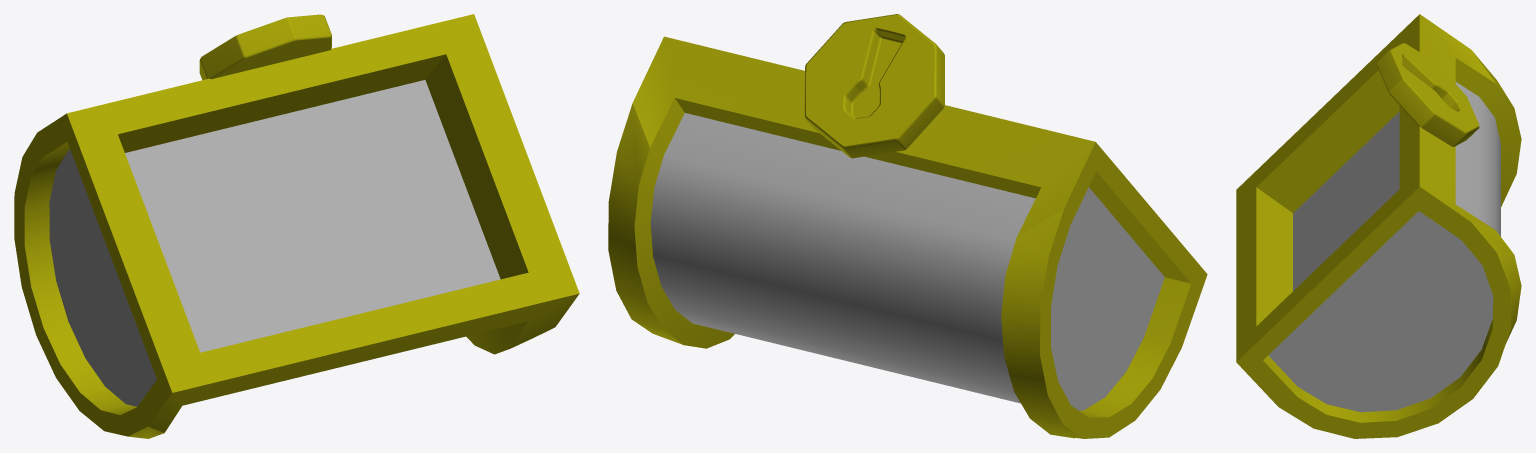
The model's file is Chest_Open4.fbx.
The picture shows the model from 3 angles, left to right: view 1: azimuth 30°, elevation 25°; view 2: azimuth 150°, elevation 25°; view 3: azimuth 270°, elevation 25°; orthographic projection. The views are drawn at different scales.
Parts seen in each view (by area): view 1: group48; view 2: group48; view 3: group48.
Boxes of the visible parts, x1=… form: group48: x1=14, y1=14, x2=579, y2=438; group48: x1=608, y1=14, x2=1207, y2=438; group48: x1=1236, y1=14, x2=1521, y2=438.
Size of the model in its own units: 258 by 218 by 180.
